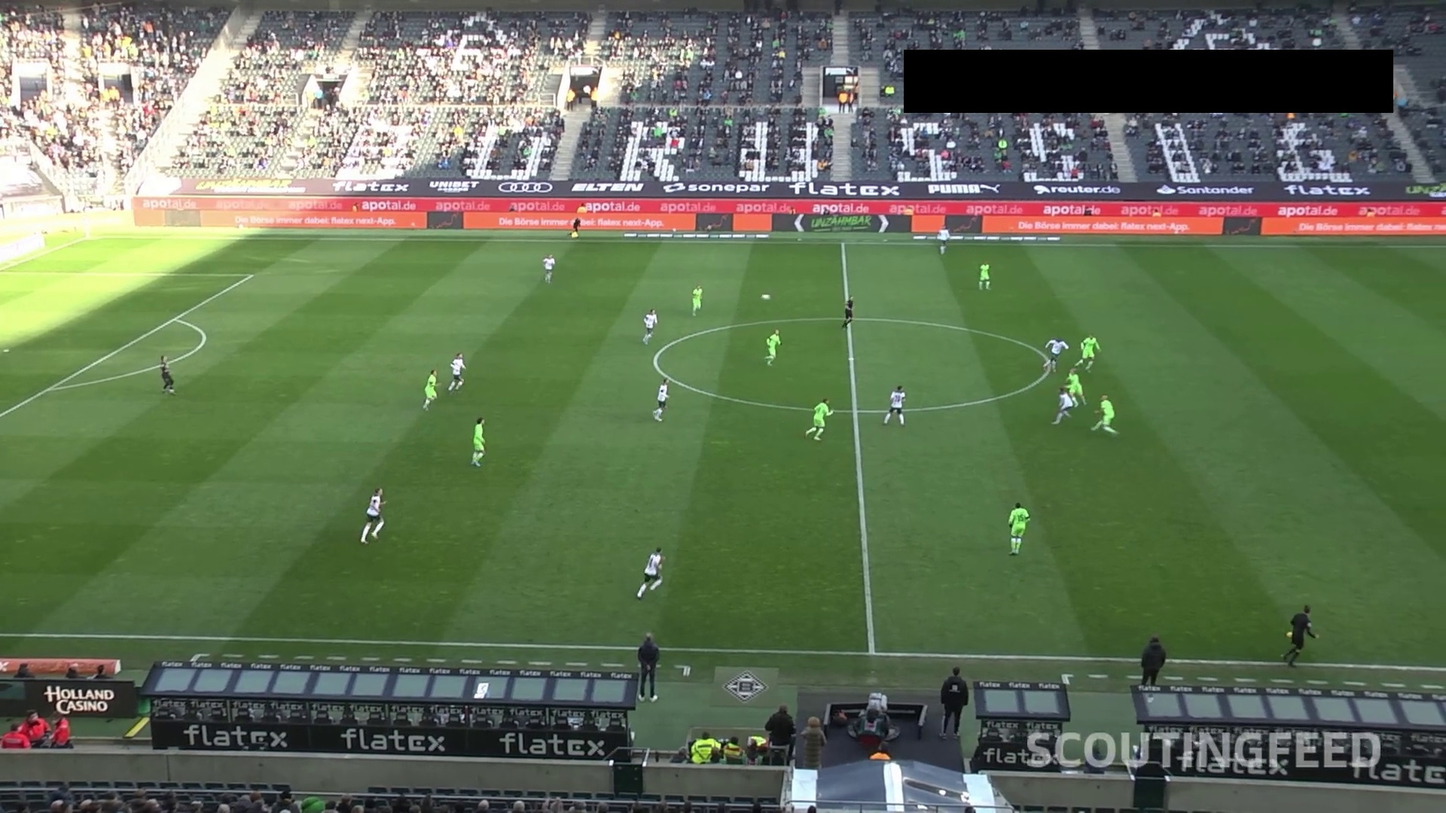ball: (646, 419, 661, 427)
goalkeeper: (244, 297, 273, 331)
player: (714, 315, 743, 350), (90, 350, 119, 385), (821, 476, 850, 510), (972, 401, 1001, 435), (885, 282, 914, 316), (677, 367, 706, 401), (726, 636, 755, 670), (590, 252, 619, 286), (594, 486, 623, 520), (414, 463, 442, 497)
referee: (902, 442, 931, 476)
